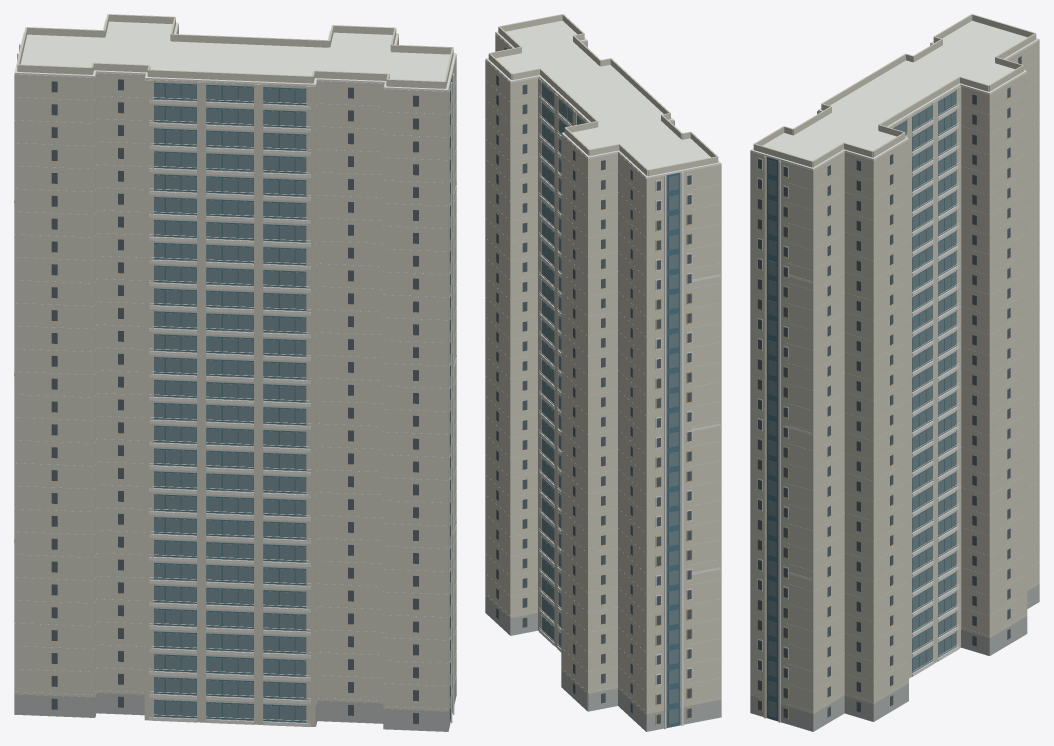
File: bespoke-lake-palace-107.glb
The picture shows the model from 3 angles, left to right: view 1: azimuth 30°, elevation 25°; view 2: azimuth 150°, elevation 25°; view 3: azimuth 270°, elevation 25°; orthographic projection. The views are drawn at different scales.
Parts seen in each view (by area): view 1: Lake107_editable_Lake107_pale_grey_panel_walls, Lake107_editable_Lake107_turquoise_balcony_glazing, Lake107_editable_Lake107_broad_white_facade_frames, Lake107_editable_Lake107_deep_blue_central_bank, Lake107_editable_Lake107_narrow_dark_window_recess, Lake107_editable_Lake107_light_grey_solid_wall; view 2: Lake107_editable_Lake107_pale_grey_panel_walls, Lake107_editable_Lake107_broad_white_facade_frames, Lake107_editable_Lake107_turquoise_balcony_glazing, Lake107_editable_Lake107_narrow_dark_window_recess, Lake107_editable_Lake107_deep_blue_central_bank, Lake107_editable_Lake107_light_grey_solid_wall, Lake107_editable_Lake107_muted_yellow_small_window_accents; view 3: Lake107_editable_Lake107_pale_grey_panel_walls, Lake107_editable_Lake107_broad_white_facade_frames, Lake107_editable_Lake107_turquoise_balcony_glazing, Lake107_editable_Lake107_deep_blue_central_bank, Lake107_editable_Lake107_narrow_dark_window_recess, Lake107_editable_Lake107_light_grey_solid_wall, Lake107_editable_Lake107_muted_yellow_small_window_accents.
Part boxes in pixels (left/top/right/bottom): Lake107_editable_Lake107_pale_grey_panel_walls: left=14, top=14, right=456, bottom=726; Lake107_editable_Lake107_turquoise_balcony_glazing: left=154, top=79, right=452, bottom=720; Lake107_editable_Lake107_broad_white_facade_frames: left=14, top=19, right=456, bottom=731; Lake107_editable_Lake107_deep_blue_central_bank: left=19, top=45, right=452, bottom=722; Lake107_editable_Lake107_narrow_dark_window_recess: left=51, top=79, right=450, bottom=723; Lake107_editable_Lake107_light_grey_solid_wall: left=14, top=675, right=456, bottom=731; Lake107_editable_Lake107_pale_grey_panel_walls: left=485, top=14, right=721, bottom=731; Lake107_editable_Lake107_broad_white_facade_frames: left=485, top=20, right=721, bottom=731; Lake107_editable_Lake107_turquoise_balcony_glazing: left=541, top=84, right=678, bottom=723; Lake107_editable_Lake107_narrow_dark_window_recess: left=496, top=47, right=691, bottom=723; Lake107_editable_Lake107_deep_blue_central_bank: left=541, top=83, right=680, bottom=727; Lake107_editable_Lake107_light_grey_solid_wall: left=485, top=595, right=721, bottom=731; Lake107_editable_Lake107_muted_yellow_small_window_accents: left=655, top=213, right=692, bottom=724; Lake107_editable_Lake107_pale_grey_panel_walls: left=750, top=14, right=1039, bottom=713; Lake107_editable_Lake107_broad_white_facade_frames: left=750, top=20, right=1039, bottom=731; Lake107_editable_Lake107_turquoise_balcony_glazing: left=768, top=92, right=956, bottom=717; Lake107_editable_Lake107_deep_blue_central_bank: left=767, top=91, right=955, bottom=721; Lake107_editable_Lake107_narrow_dark_window_recess: left=758, top=56, right=1021, bottom=718; Lake107_editable_Lake107_light_grey_solid_wall: left=750, top=584, right=1039, bottom=731; Lake107_editable_Lake107_muted_yellow_small_window_accents: left=757, top=197, right=788, bottom=719.
Size of the model in its own units: 43.57 by 76.66 by 35.38.
